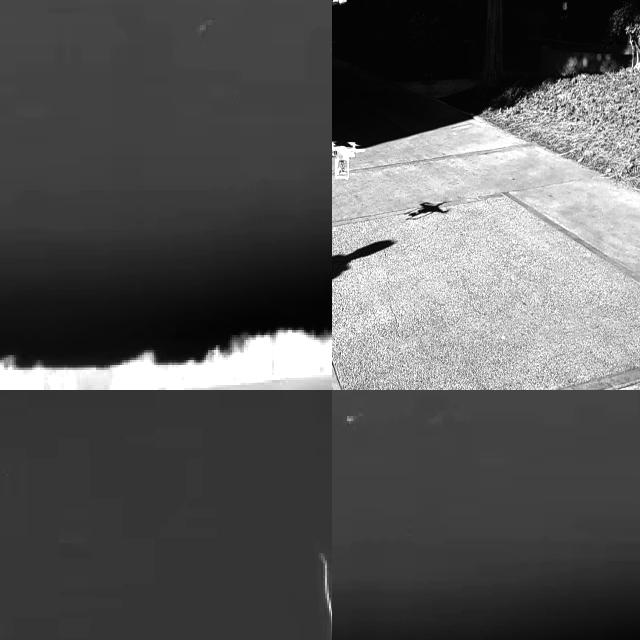0: (184, 15, 210, 45), (336, 410, 358, 432)
drone: (332, 141, 359, 187)
